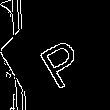P_NW: (30, 26, 88, 88)
